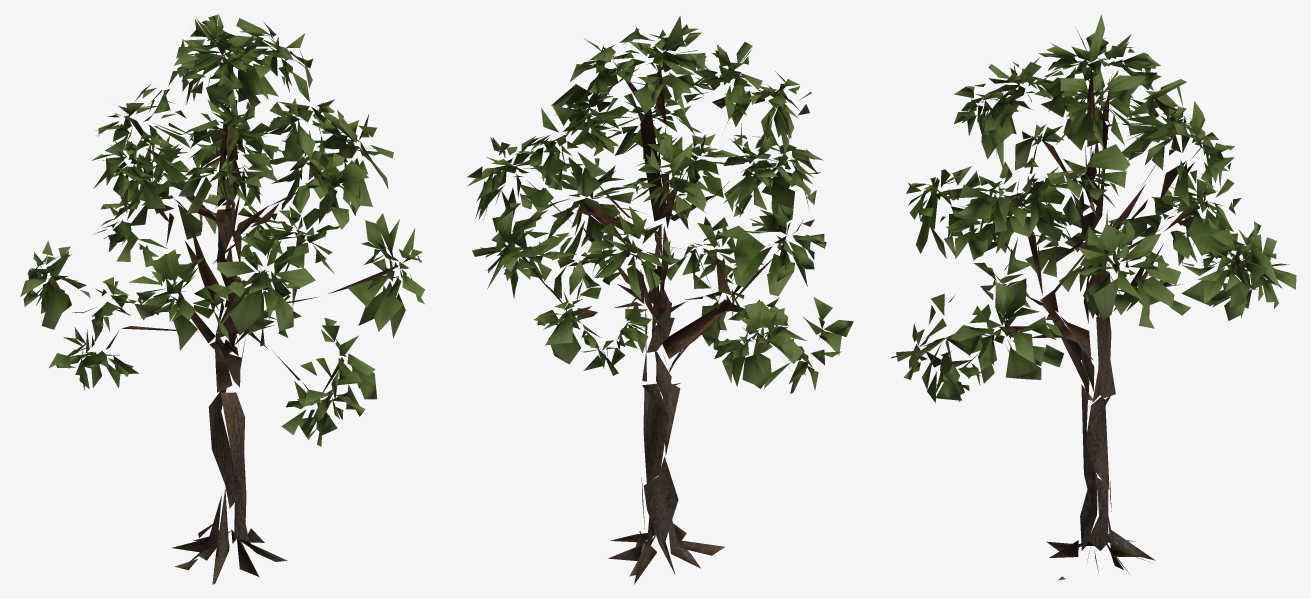
File: sal_tree_far.glb
3 renders of one model, left to right at view 1: azimuth 30°, elevation 25°; view 2: azimuth 150°, elevation 25°; view 3: azimuth 270°, elevation 25°, orthographic.
Parts seen in each view (by area): view 1: tripo_node_f646bff2-3a83-4f4a-bca9-8d86384ba72f; view 2: tripo_node_f646bff2-3a83-4f4a-bca9-8d86384ba72f; view 3: tripo_node_f646bff2-3a83-4f4a-bca9-8d86384ba72f.
Boxes of the visible parts, x1,y1,x2,y2 form: tripo_node_f646bff2-3a83-4f4a-bca9-8d86384ba72f: [20, 14, 425, 584]; tripo_node_f646bff2-3a83-4f4a-bca9-8d86384ba72f: [467, 16, 853, 584]; tripo_node_f646bff2-3a83-4f4a-bca9-8d86384ba72f: [891, 14, 1296, 580].
Bounding box in the file's own units: 2.4 × 3.52 × 2.4.
1 material, 1 textured.
